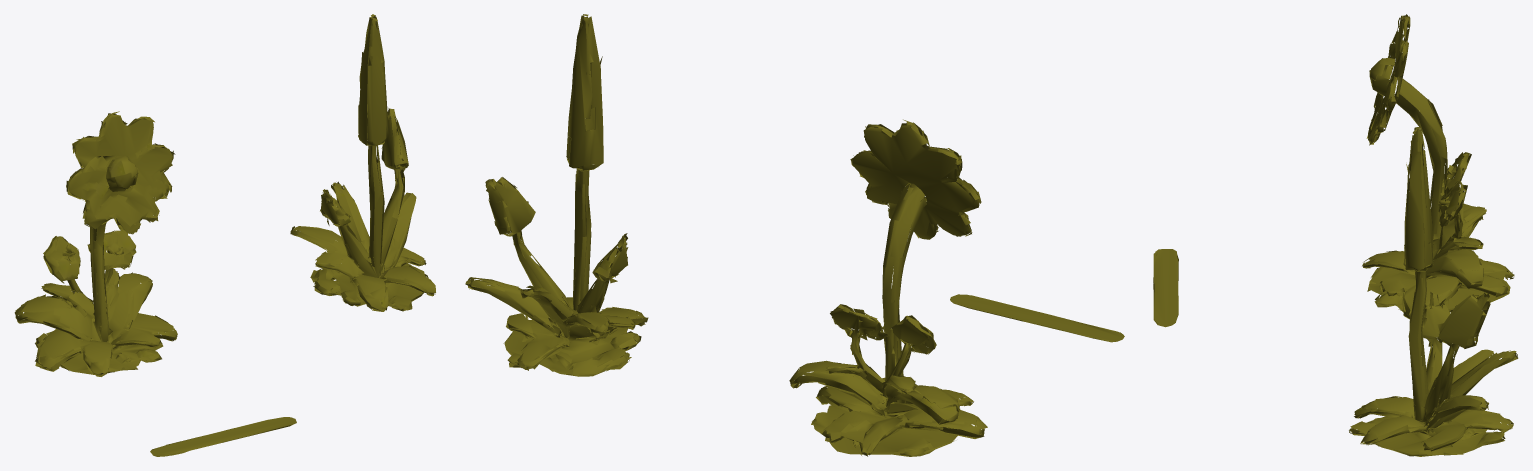
Rendered from flor.glb.
The picture shows the model from 3 angles, left to right: view 1: azimuth 30°, elevation 25°; view 2: azimuth 150°, elevation 25°; view 3: azimuth 270°, elevation 25°; orthographic projection. The views are drawn at different scales.
Parts seen in each view (by area): view 1: flor; view 2: flor; view 3: flor.
Boxes of the visible parts, x1,y1,x2,y2 form: flor: [14, 14, 435, 456]; flor: [465, 14, 1124, 456]; flor: [1153, 14, 1518, 456].
Size of the model in its own units: 0.5406 by 0.3499 by 0.3811.
Materials: 1 (1 with a texture image).
